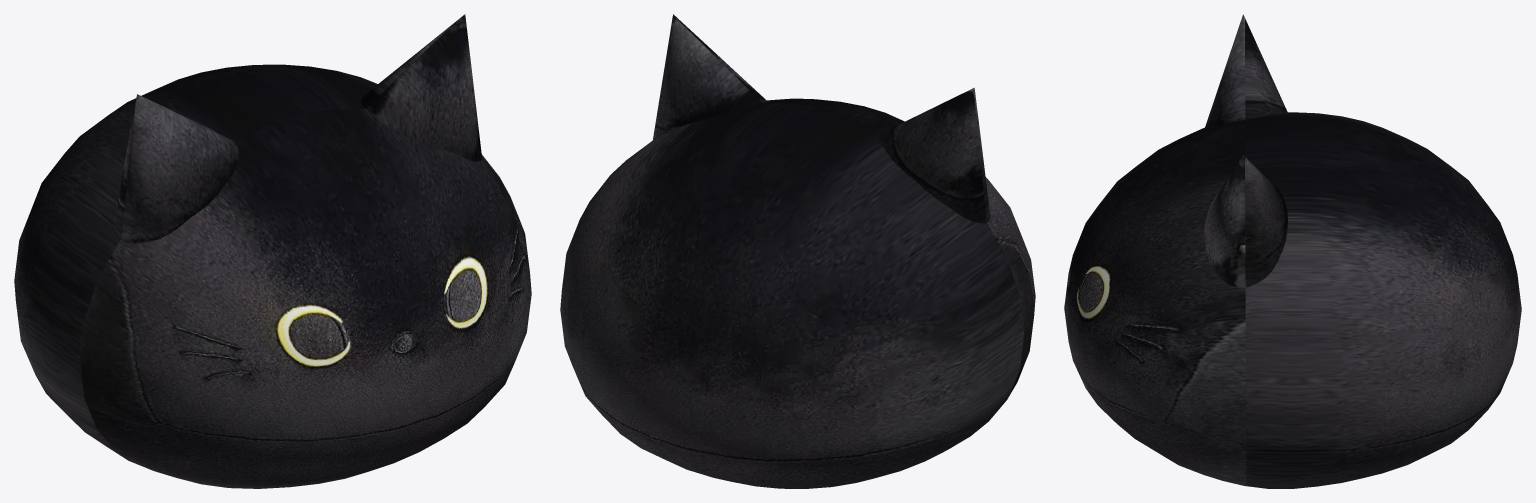
Rendered from plush-black-cat.glb.
The picture shows the model from 3 angles, left to right: view 1: azimuth 30°, elevation 25°; view 2: azimuth 150°, elevation 25°; view 3: azimuth 270°, elevation 25°; orthographic projection. The views are drawn at different scales.
Visible parts, largest first — view 1: Sphere_0; view 2: Sphere_0; view 3: Sphere_0.
Part boxes in pixels (left/top/right/bottom): Sphere_0: left=14, top=14, right=531, bottom=488; Sphere_0: left=560, top=14, right=1035, bottom=488; Sphere_0: left=1064, top=14, right=1521, bottom=488.
Size of the model in its own units: 5.32 by 4.67 by 5.32.
1 material, 1 textured.
